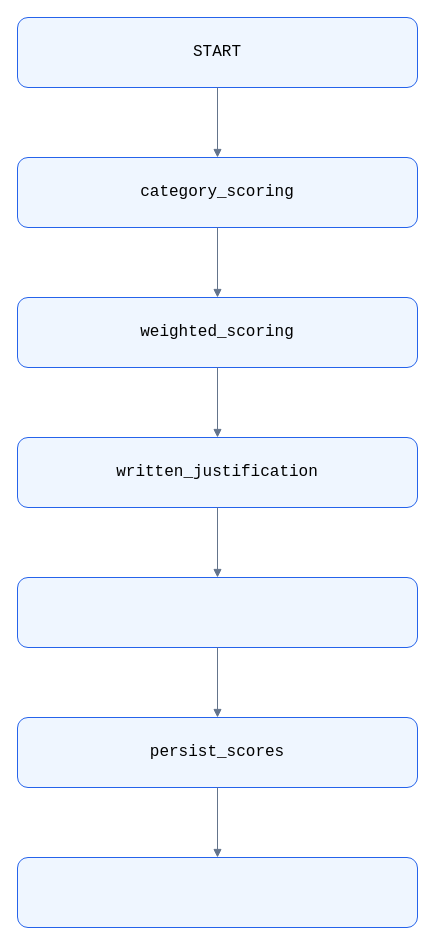
Image size: 435x945. Some labels were removed from this diagram. The box of each missing label's shape, as (x1, y1, x2, y2) in pixels:
END: (16, 856, 418, 928)
rank_candidates: (16, 576, 418, 648)
